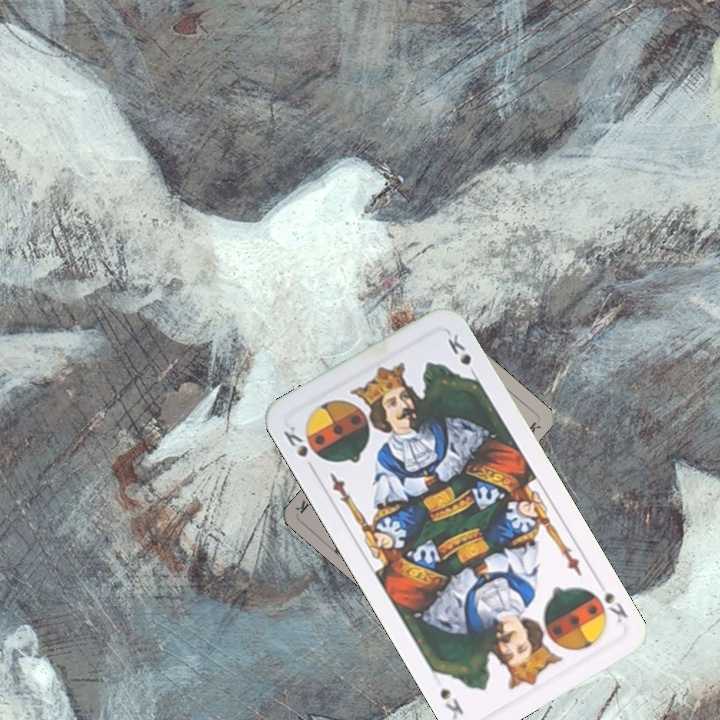SK: (585, 575, 631, 626), (279, 421, 311, 460)
